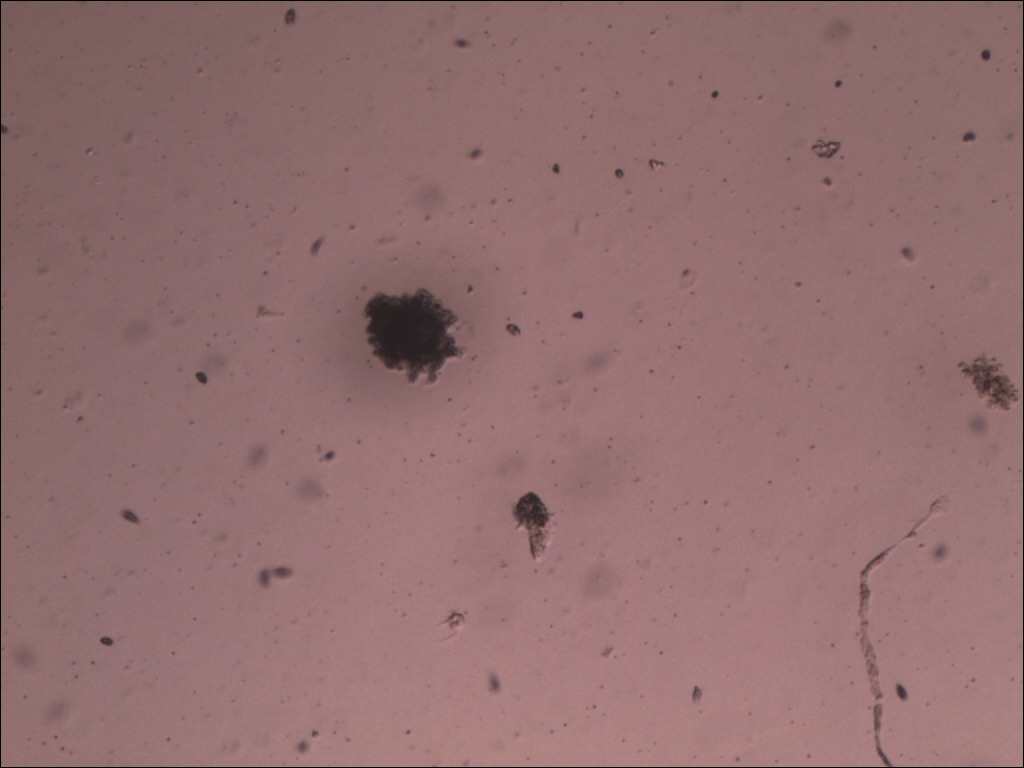amoeba: (357, 286, 479, 388), (499, 483, 571, 574)
